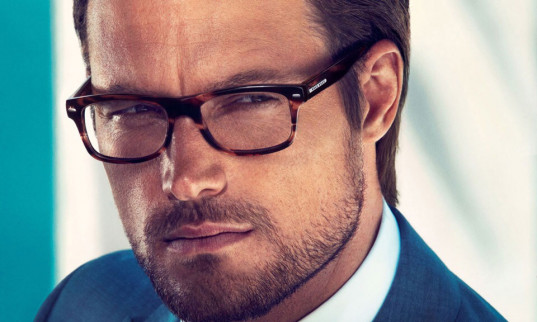glasses: (55, 62, 347, 174)
